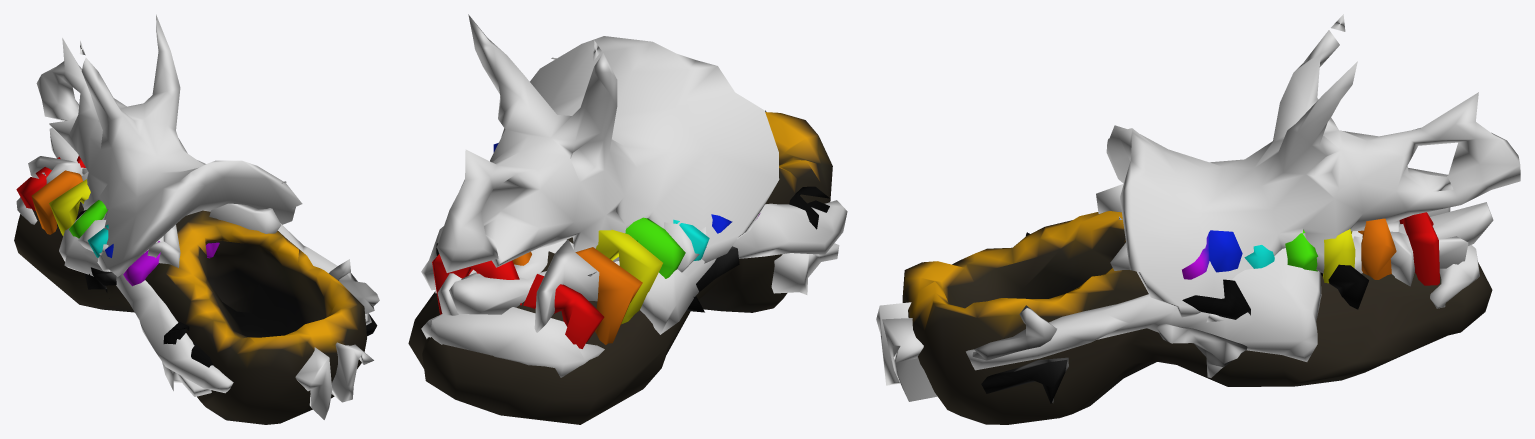
File: mshoe-decals-b 1.fbx
3 renders of one model, left to right at view 1: azimuth 30°, elevation 25°; view 2: azimuth 150°, elevation 25°; view 3: azimuth 270°, elevation 25°, orthographic. The views are drawn at different scales.
Visible parts, largest first — view 1: base, decal-b, decal-d, decal-a, decal-c; view 2: decal-b, base, decal-a, decal-c, decal-d; view 3: decal-b, base, decal-d, decal-a, decal-c.
Part boxes in pixels (x1,y1,x2,y2): base: (14, 202, 366, 424); decal-b: (36, 14, 302, 276); decal-d: (28, 156, 379, 419); decal-a: (16, 197, 371, 393); decal-c: (16, 156, 219, 286); decal-b: (437, 14, 779, 314); base: (408, 112, 832, 424); decal-a: (421, 200, 847, 377); decal-c: (432, 143, 760, 348); decal-d: (433, 110, 839, 332); decal-b: (1106, 14, 1520, 322); base: (902, 211, 1492, 424); decal-d: (876, 184, 1468, 403); decal-a: (966, 245, 1479, 370); decal-c: (1182, 212, 1439, 285).
Bounding box in the file's own units: 0.1394 × 0.2988 × 0.1863.
